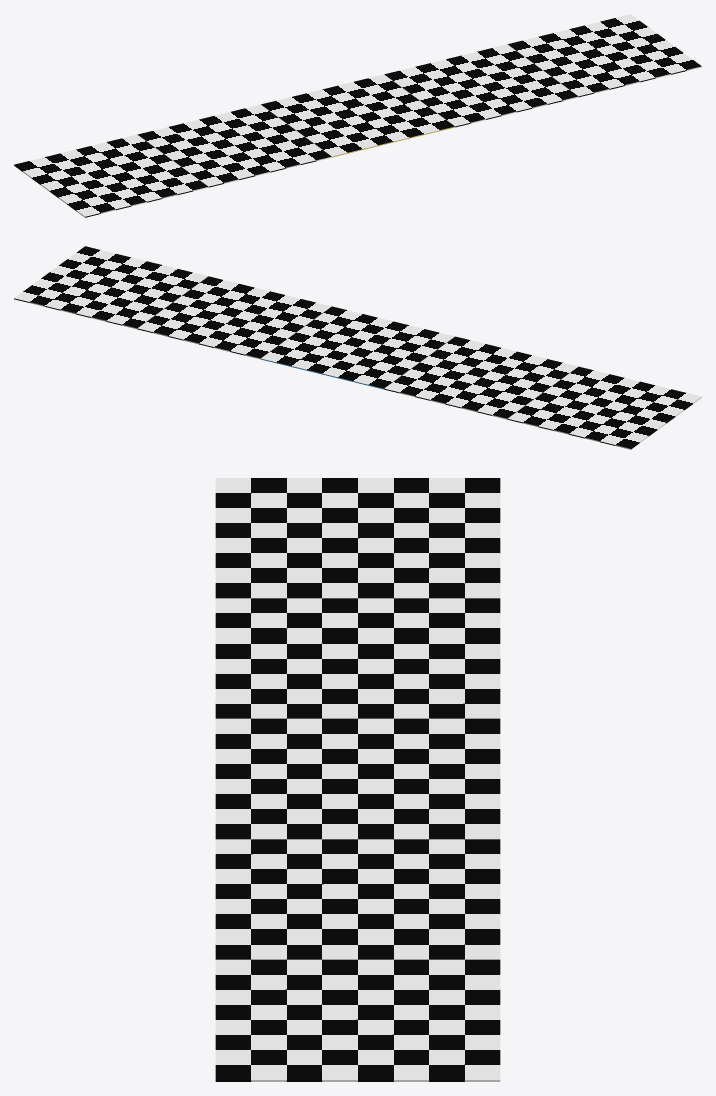
File: floor_tiles_try_it.gltf
The picture shows the model from 3 angles, top to bottom: view 1: azimuth 30°, elevation 25°; view 2: azimuth 150°, elevation 25°; view 3: azimuth 270°, elevation 25°; orthographic projection. The views are drawn at different scales.
Visible parts, largest first — view 1: mesh (×5); view 2: mesh (×5); view 3: mesh (×5).
Part boxes in pixels (box(x1,y1,x2,y2)): mesh (×5): box(14, 14, 701, 217); mesh (×5): box(14, 246, 701, 449); mesh (×5): box(215, 478, 500, 1081).
Size of the model in its own units: 40 by 0.0625 by 8.
1 material, 1 textured.
